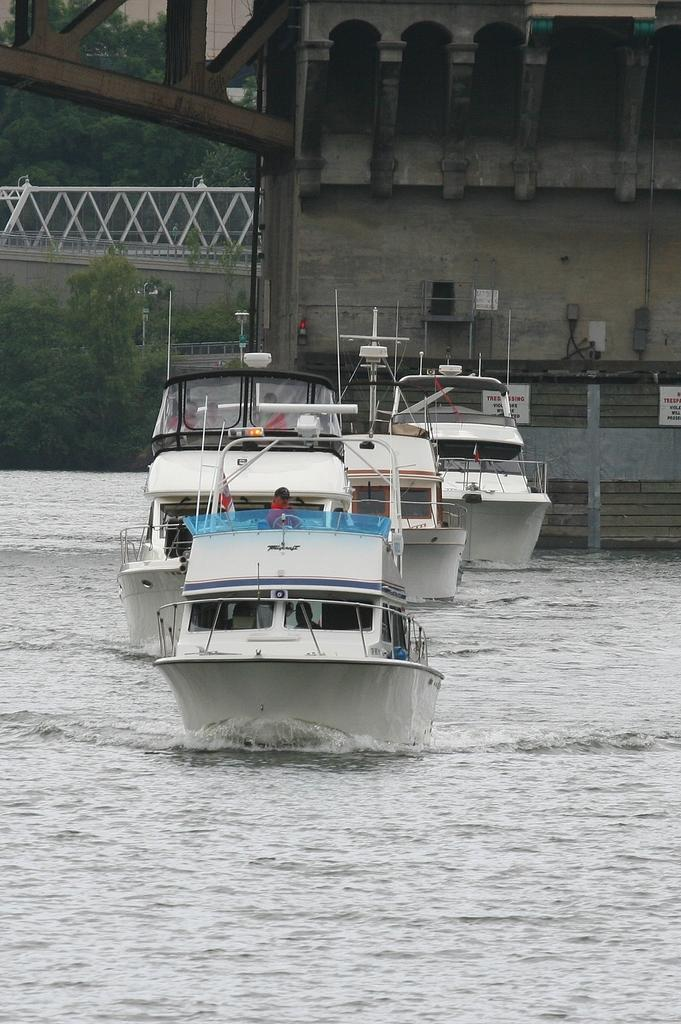PassengerShip: (155, 477, 451, 761), (115, 346, 358, 664), (384, 346, 548, 578), (340, 384, 467, 610)
